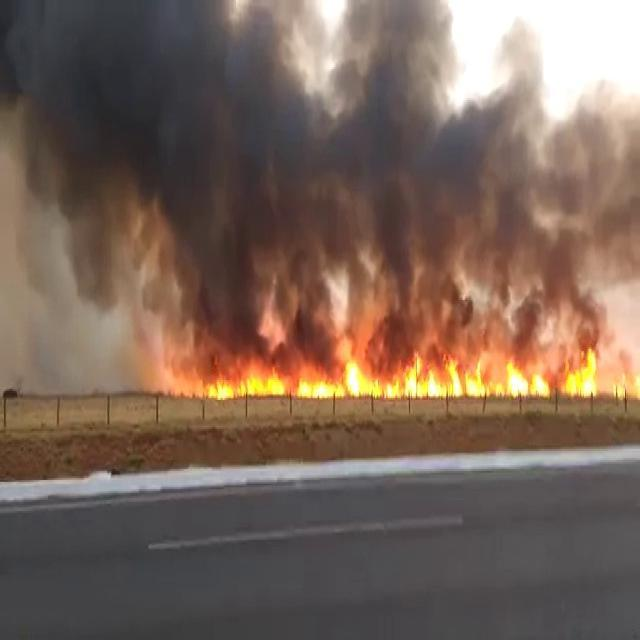Fire: (230, 358, 597, 396)
Smoke: (5, 6, 640, 338), (326, 5, 626, 340), (0, 104, 161, 398), (515, 218, 615, 346)
